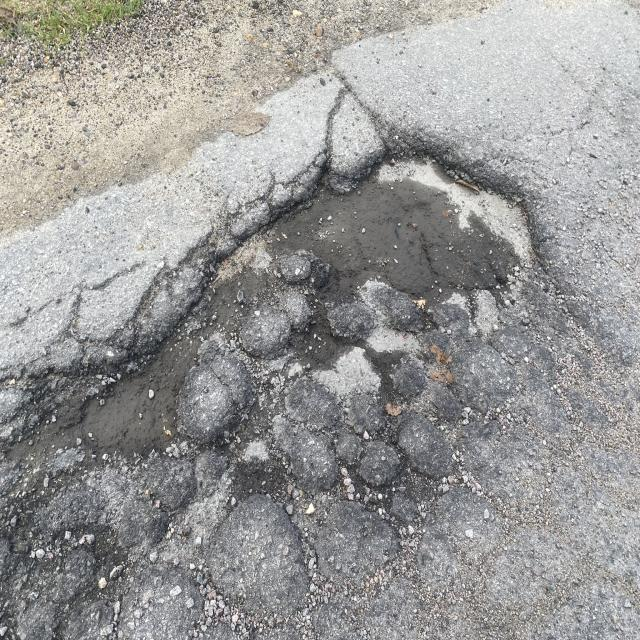pothole: (16, 140, 613, 497)
